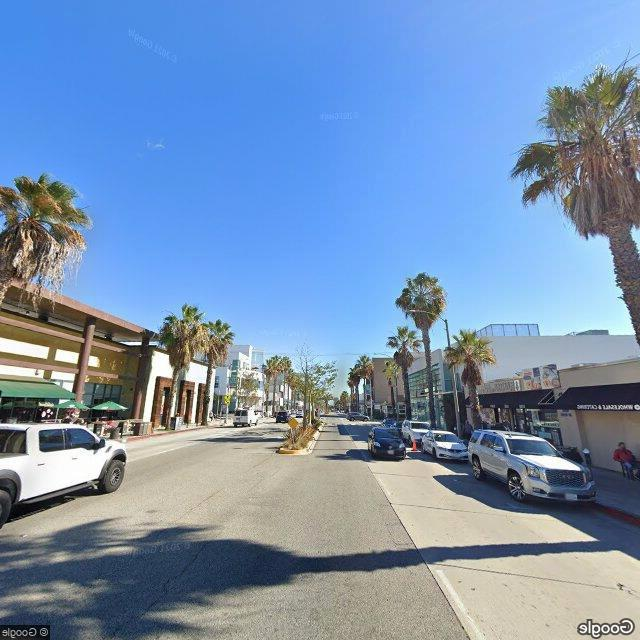pothole: (130, 540, 213, 626)
